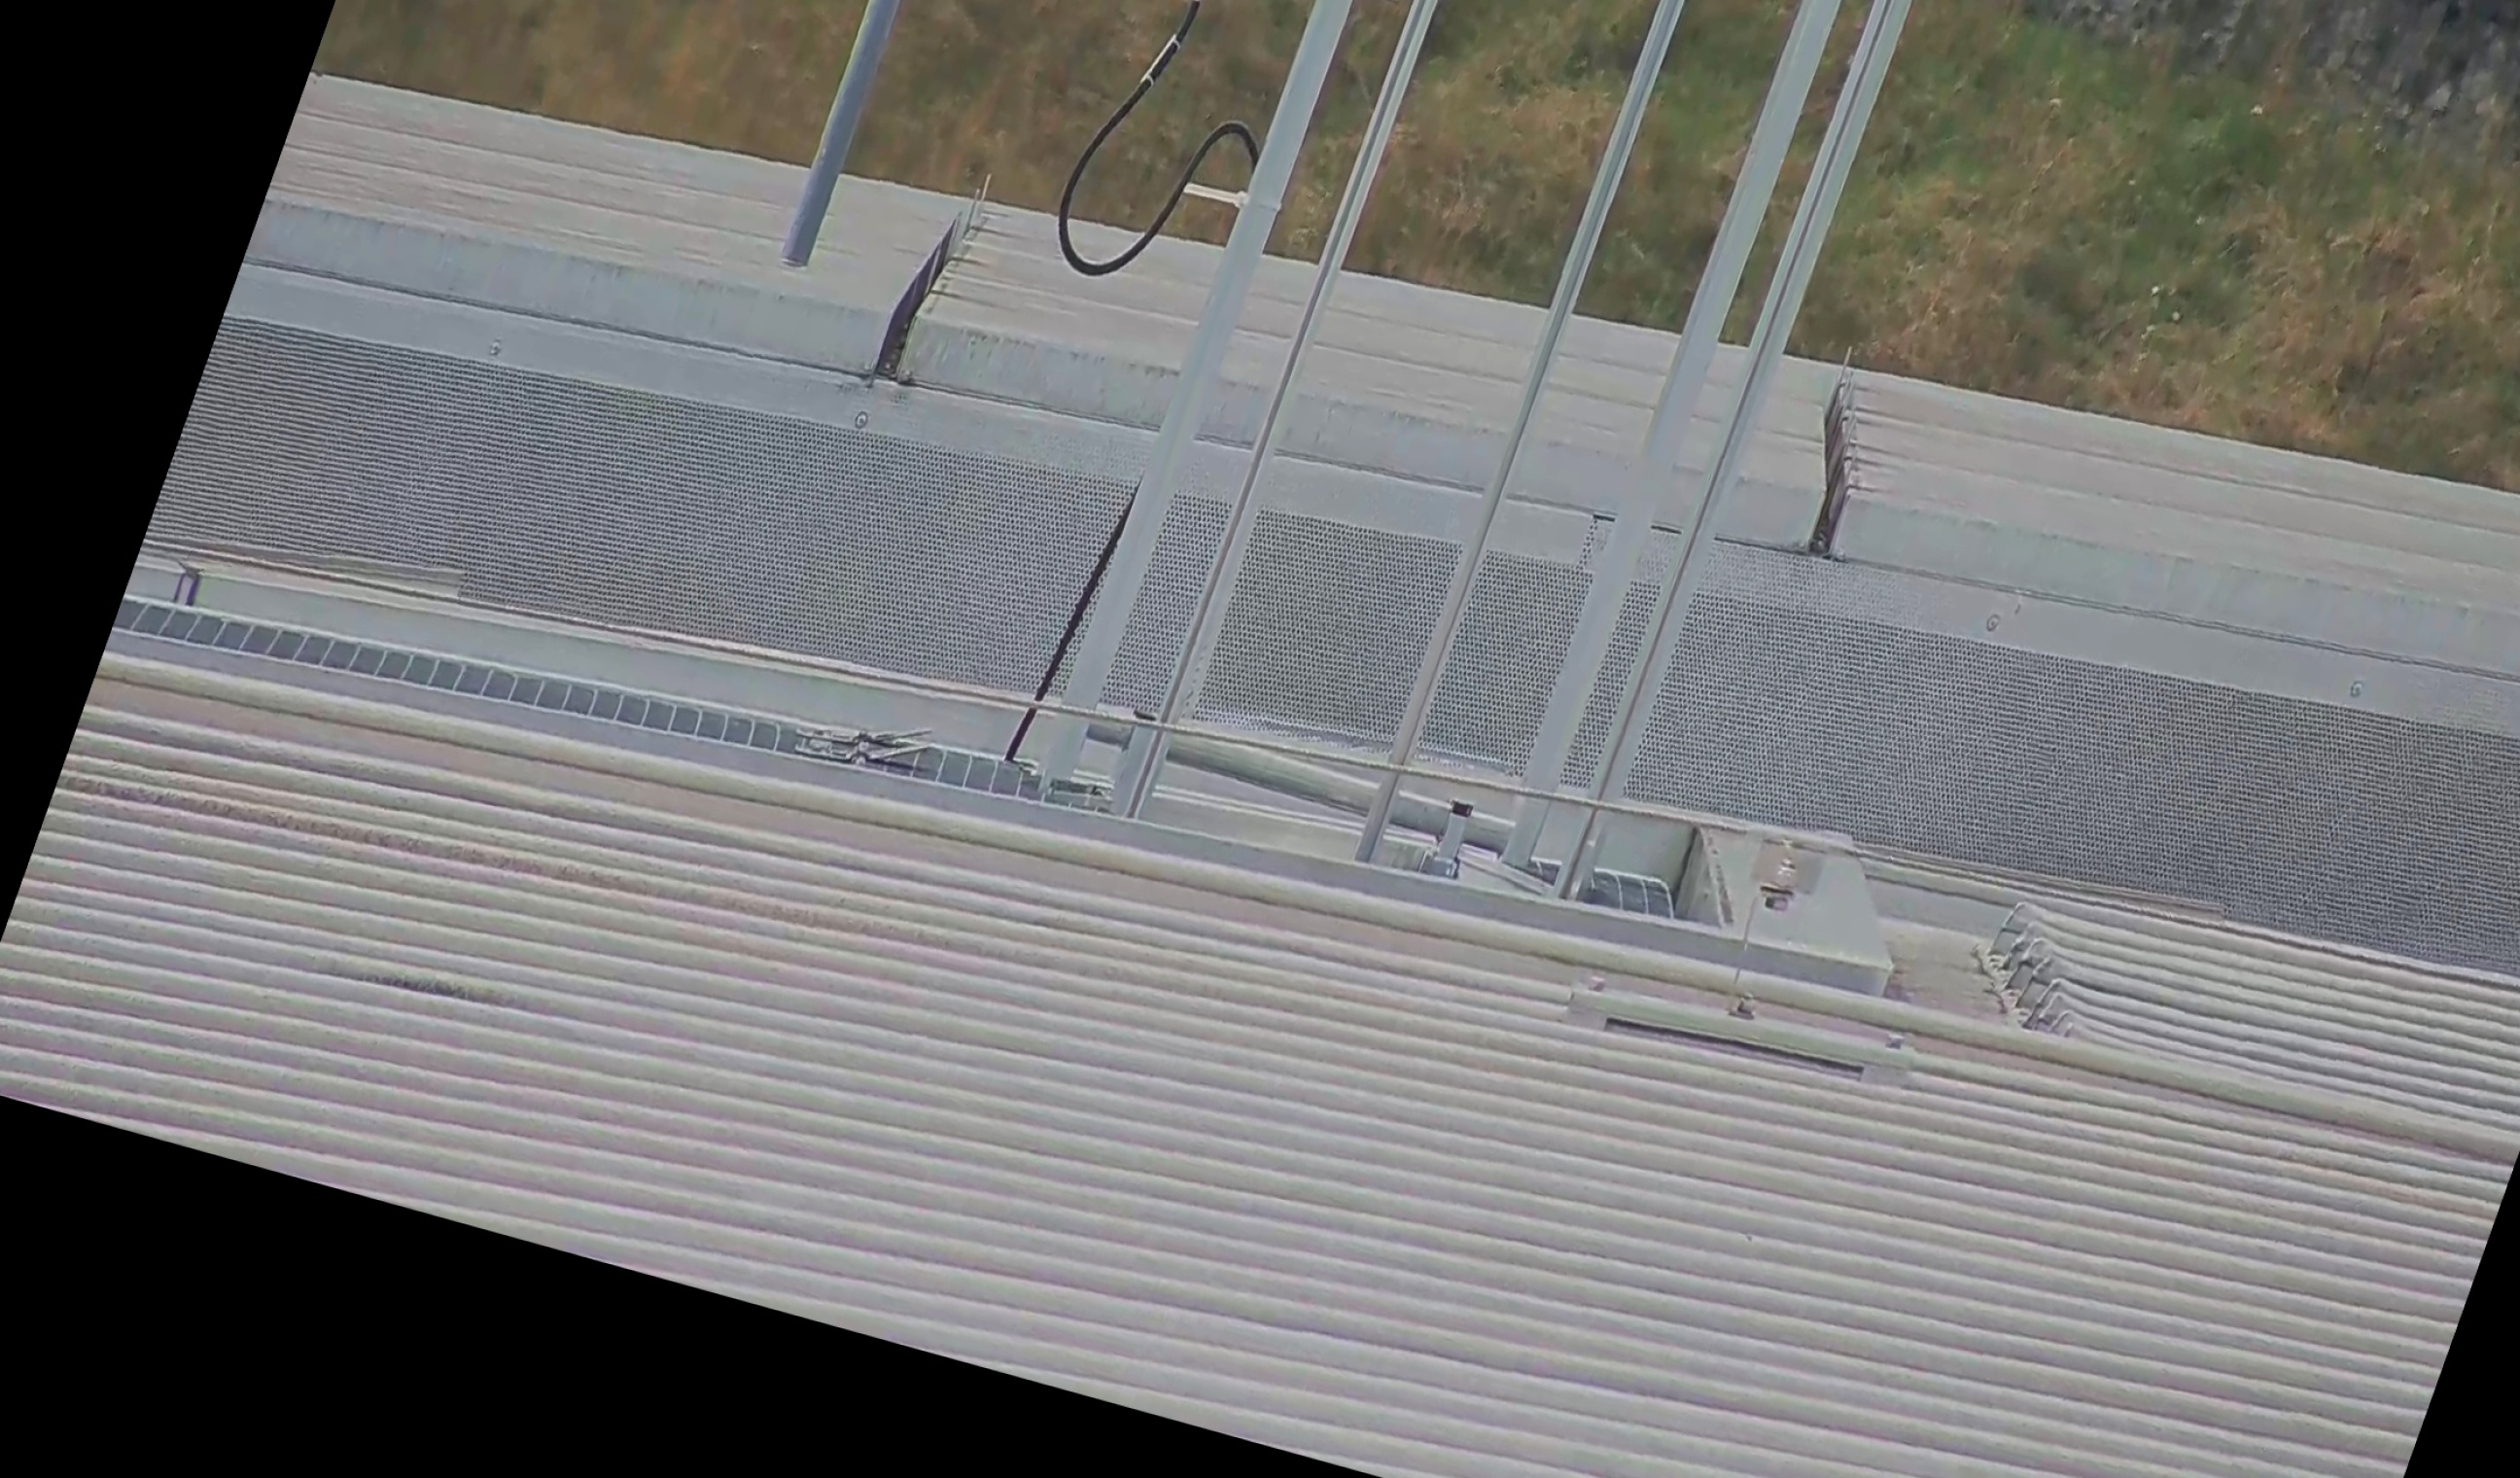Other: (1767, 336, 1927, 574)
